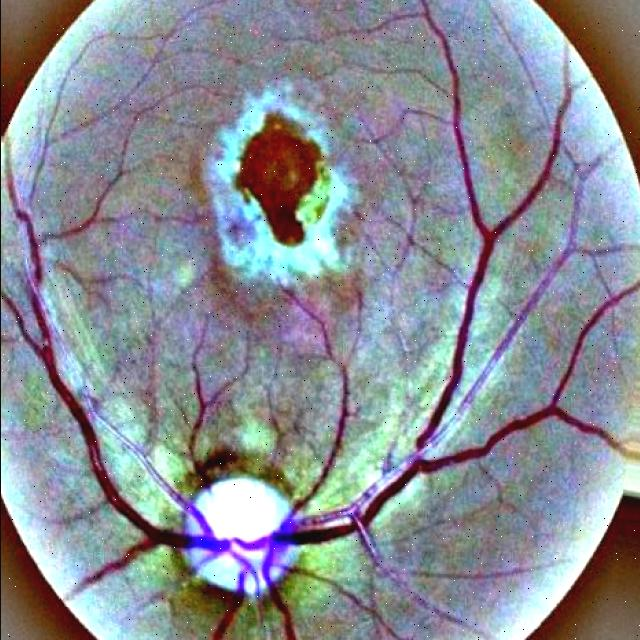Macula: (206, 101, 347, 257)
Nerves: (314, 58, 629, 551), (315, 208, 587, 528), (7, 168, 168, 602), (203, 613, 238, 640), (276, 606, 303, 640)
Optic Disk: (169, 466, 305, 604)
